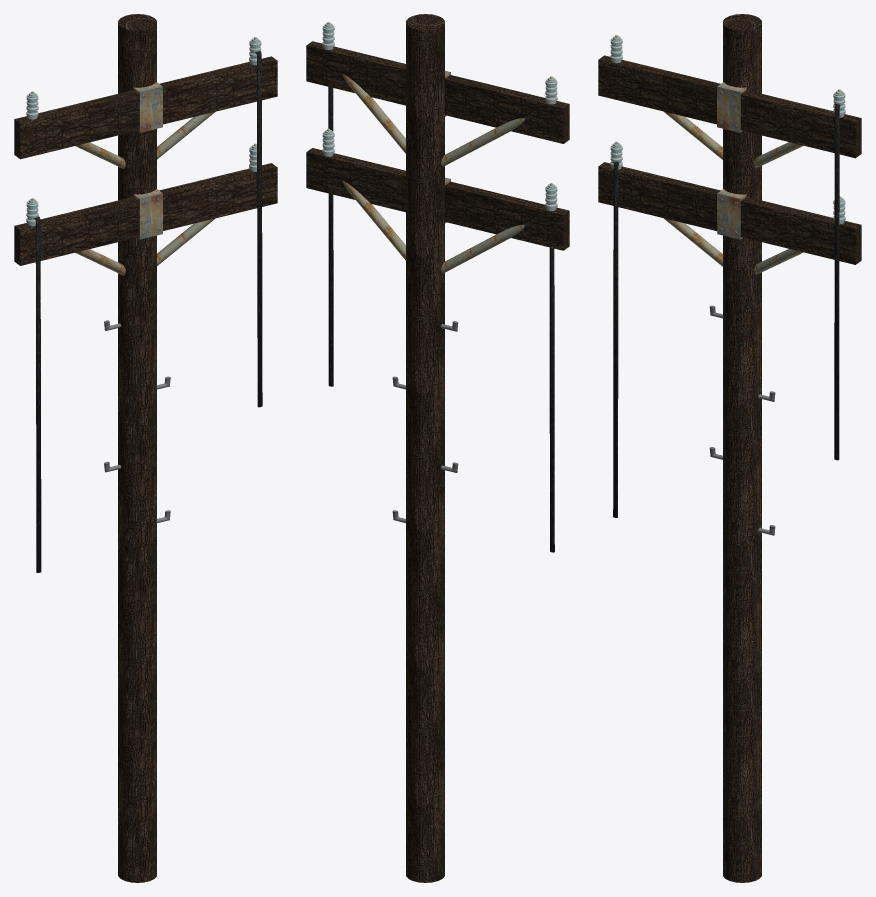
Rendered from Power Pole.FBX.
3 renders of one model, left to right at view 1: azimuth 30°, elevation 25°; view 2: azimuth 150°, elevation 25°; view 3: azimuth 330°, elevation 25°, orthographic.
Parts seen in each view (by area): view 1: Cylinder001, Box001, Box002, Loft002, Loft001, Box003, Box004, Cylinder005, Cylinder003; view 2: Cylinder001, Box001, Box002, Loft001, Loft002, Cylinder004, Cylinder002, Cylinder005, Cylinder003; view 3: Cylinder001, Box001, Box002, Loft002, Loft001, Box003, Box004, Cylinder002, Cylinder004.
Part boxes in pixels (x1,y1,x2,y2): Cylinder001: (118, 14, 156, 882); Box001: (14, 56, 277, 159); Box002: (14, 163, 277, 265); Loft002: (255, 51, 262, 407); Loft001: (34, 216, 41, 572); Box003: (133, 82, 162, 132); Box004: (133, 188, 162, 239); Cylinder005: (157, 218, 215, 265); Cylinder003: (157, 111, 215, 159); Cylinder001: (406, 14, 444, 882); Box001: (306, 41, 569, 143); Box002: (306, 148, 569, 250); Loft001: (549, 247, 554, 552); Loft002: (328, 87, 333, 386); Cylinder004: (441, 224, 524, 273); Cylinder002: (441, 118, 524, 166); Cylinder005: (342, 181, 405, 260); Cylinder003: (342, 74, 405, 153); Cylinder001: (723, 14, 761, 882); Box001: (598, 55, 861, 158); Box002: (598, 162, 861, 264); Loft002: (834, 103, 840, 460); Loft001: (613, 161, 619, 517); Box003: (717, 82, 746, 132); Box004: (717, 188, 746, 239); Cylinder002: (663, 111, 722, 159); Cylinder004: (663, 218, 722, 266).
Size of the model in its own units: 30 by 95 by 4.97.
8 materials, 8 textured.
